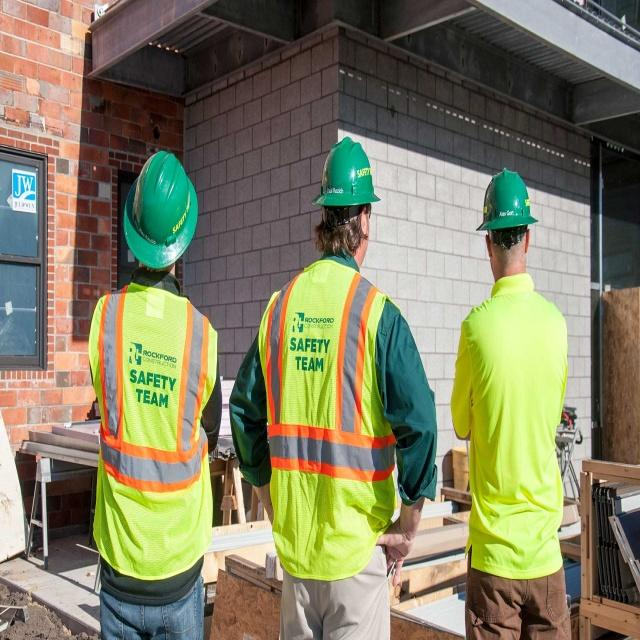helmet: (125, 200, 200, 373), (310, 179, 380, 352), (476, 219, 537, 373)
vest: (263, 360, 402, 640), (88, 381, 217, 640)
